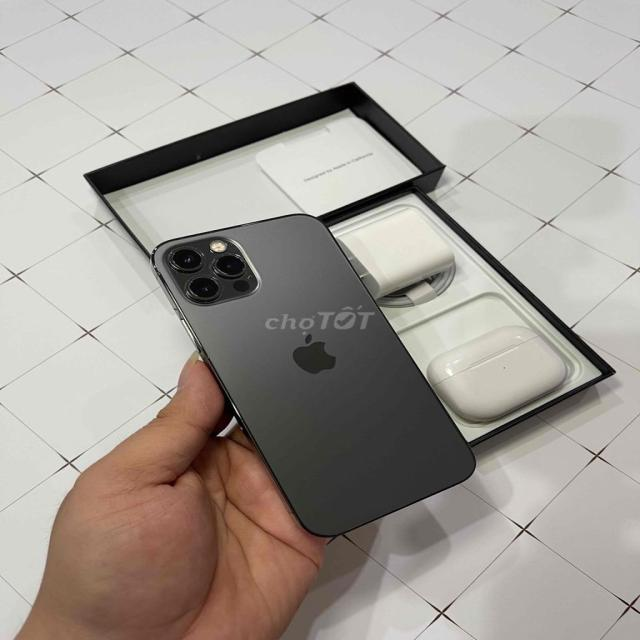gen_12_13: (145, 212, 479, 544)
